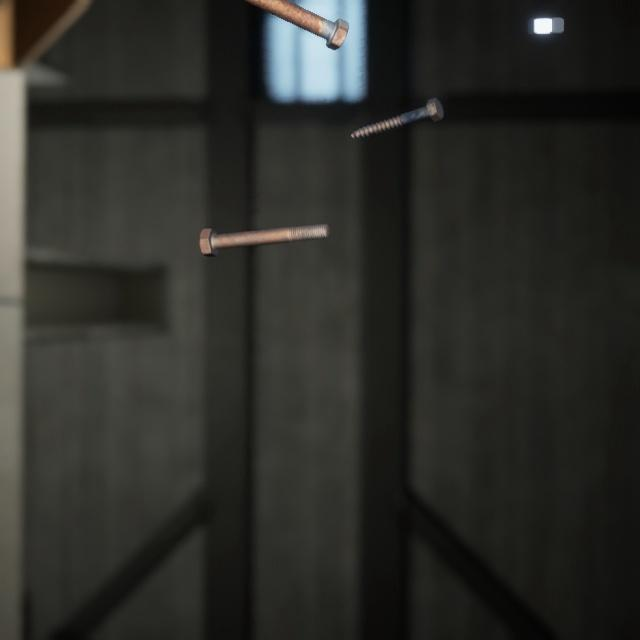bolt: (194, 202, 334, 245), (346, 81, 447, 130), (253, 0, 353, 47)
